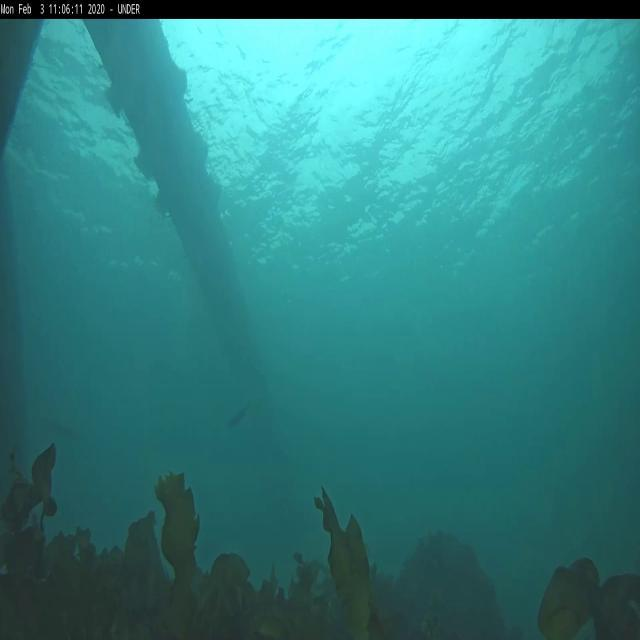fish: (229, 406, 253, 432)
